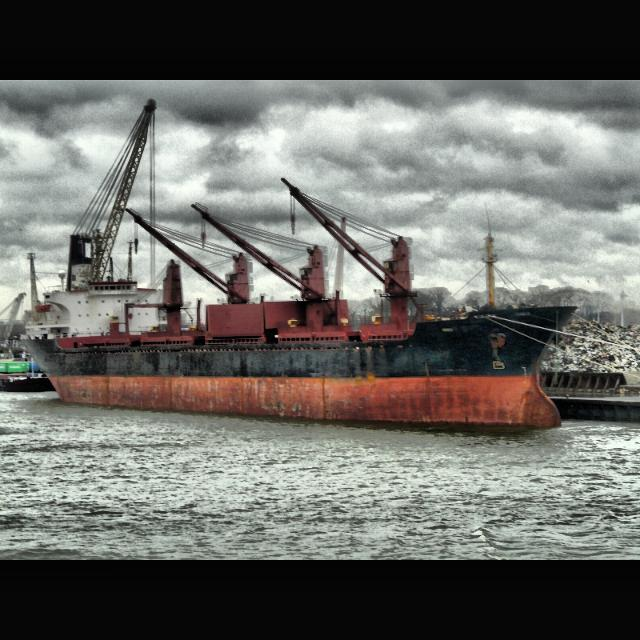bulk_carrier: (17, 174, 580, 430)
